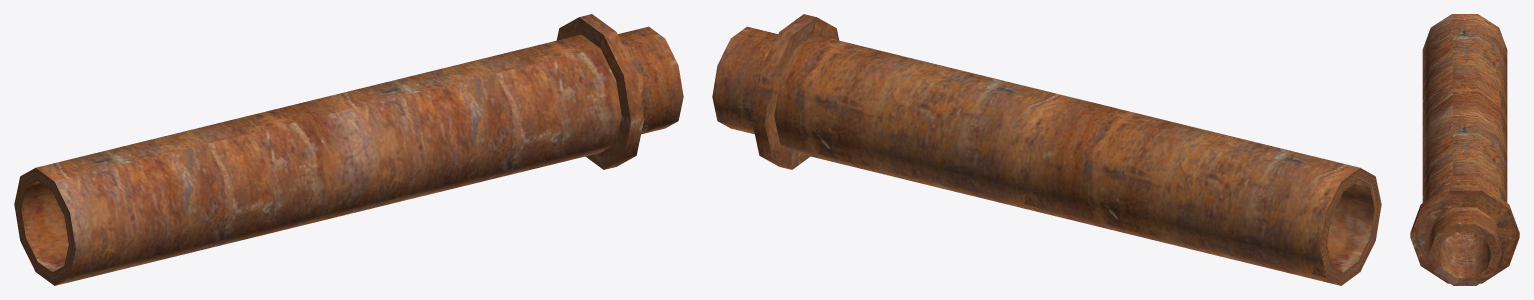
File: PipeSmA.FBX
3 views of the same model, side by side, from view 1: azimuth 30°, elevation 25°; view 2: azimuth 150°, elevation 25°; view 3: azimuth 270°, elevation 25° (orthographic). The views are drawn at different scales.
Visible parts, largest first — view 1: PipSM; view 2: PipSM; view 3: PipSM.
Part boxes in pixels (x1,y1,x2,y2): PipSM: [14, 14, 683, 285]; PipSM: [712, 14, 1381, 285]; PipSM: [1410, 14, 1519, 285].
Size of the model in its own units: 145 by 30.61 by 32.79.
